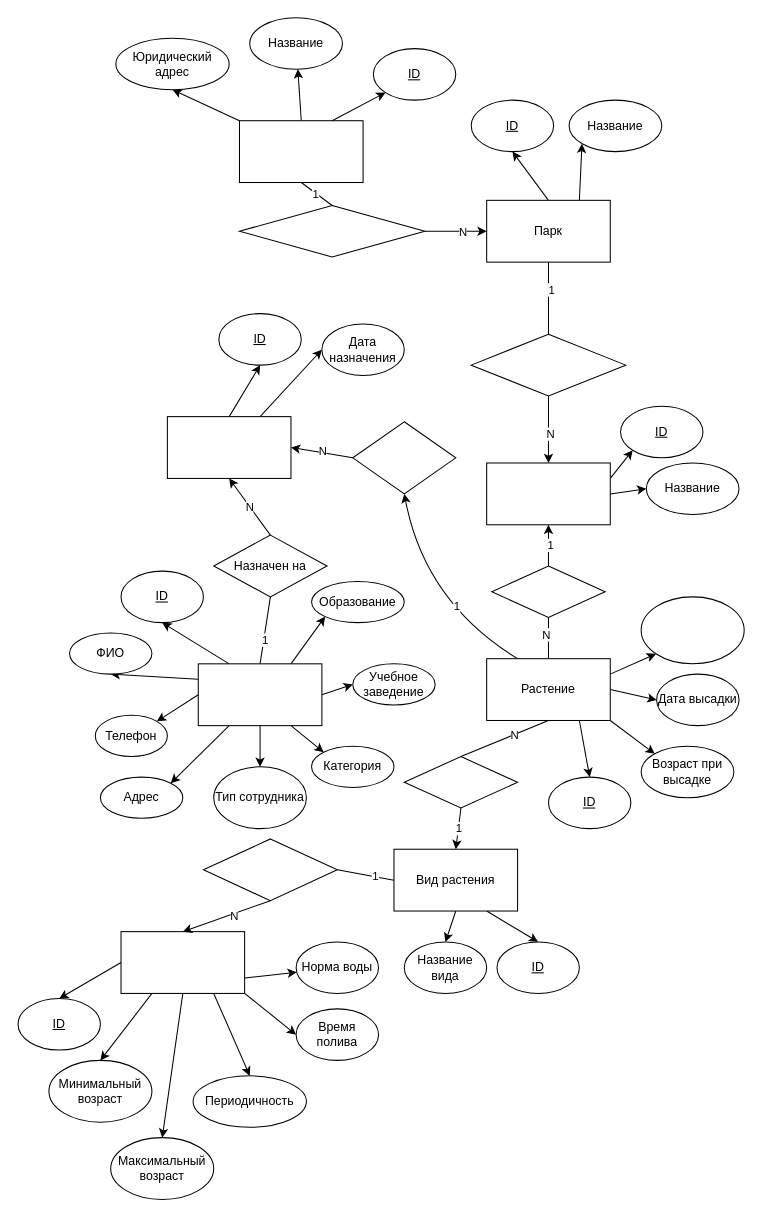
This 762x1218 diagram has some shape labels left out. Here are the shapes that lost their labels. From the top down, the box of each, then its label:
(238, 120, 363, 183): Фирма
(238, 204, 425, 257): Управляет
(470, 333, 626, 396): Состоит из
(166, 416, 291, 478): График работ
(352, 421, 456, 494): Включено в
(486, 462, 610, 525): Зона
(491, 565, 605, 617): Находится в
(640, 596, 744, 664): Уникальный номер в зоне
(197, 663, 322, 726): Сотрудник
(403, 756, 518, 808): Принадлежит
(202, 838, 337, 901): Определяет
(120, 931, 245, 993): Режим полива
